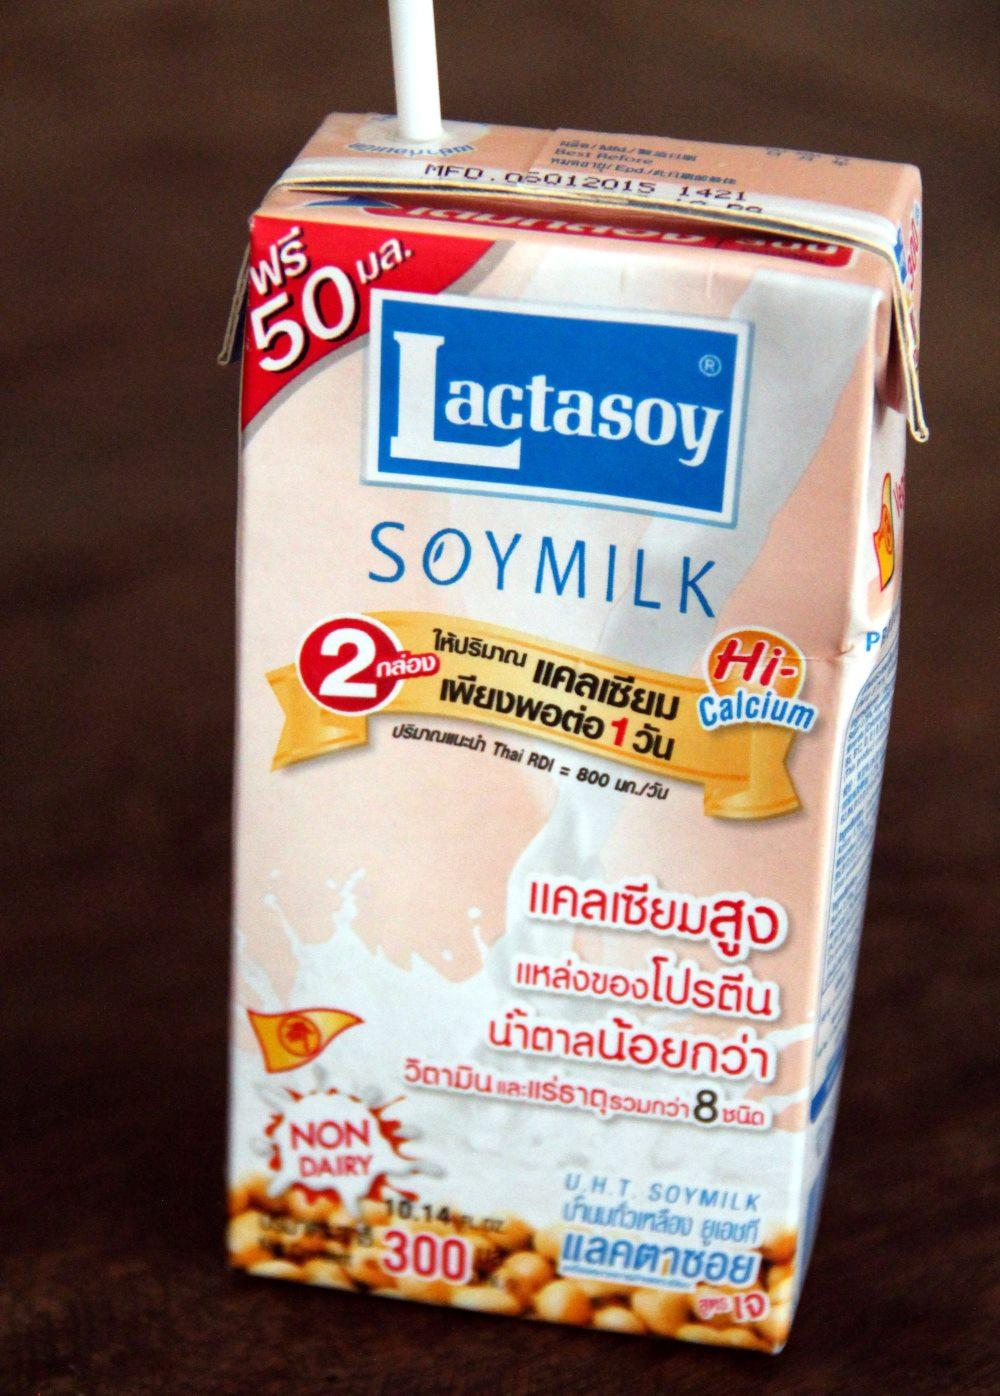cardboard: (227, 114, 925, 1348)
